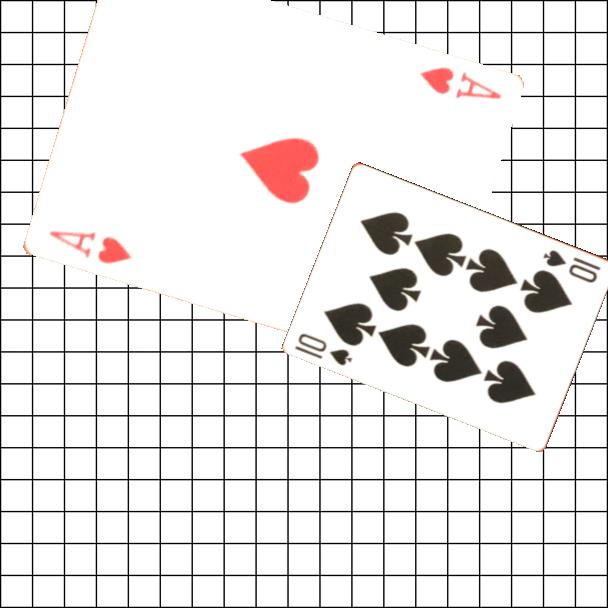h01: (45, 227, 135, 267), (415, 63, 504, 103)
s10: (540, 246, 604, 286), (292, 329, 355, 368)
